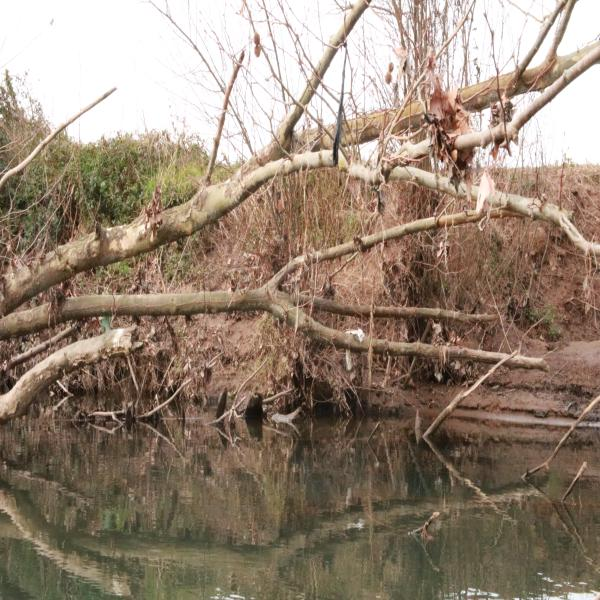fragments: (331, 44, 347, 163), (341, 325, 365, 342)
others: (344, 347, 351, 368)
